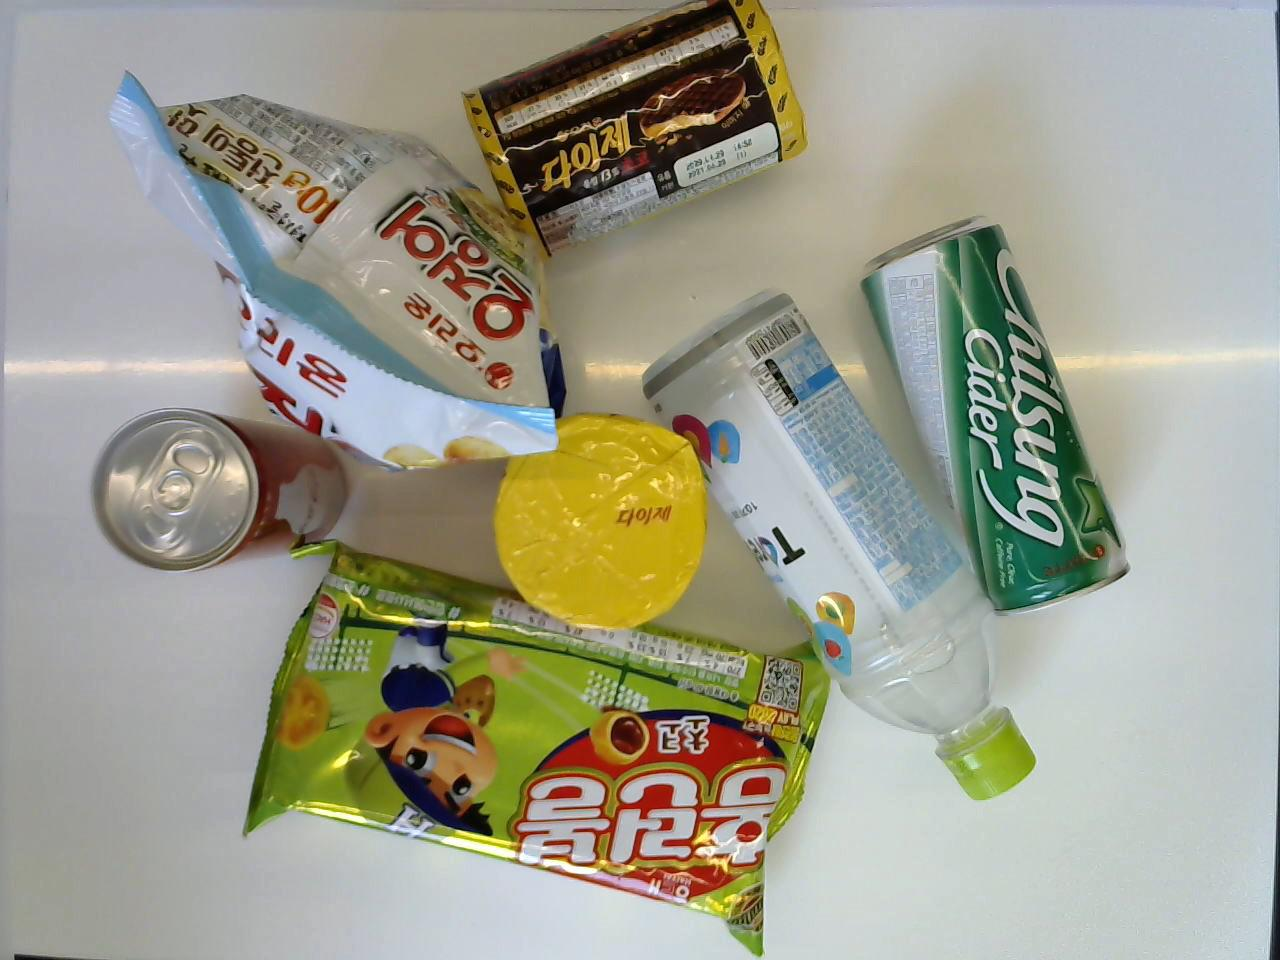cidar: (852, 215, 1136, 621)
coke: (91, 409, 346, 576)
diget_choco: (461, 0, 815, 256)
diget_ori: (491, 411, 709, 640)
homerunball: (241, 544, 830, 955)
squid_peanut: (115, 66, 572, 474)
toreta: (633, 286, 1039, 805)
